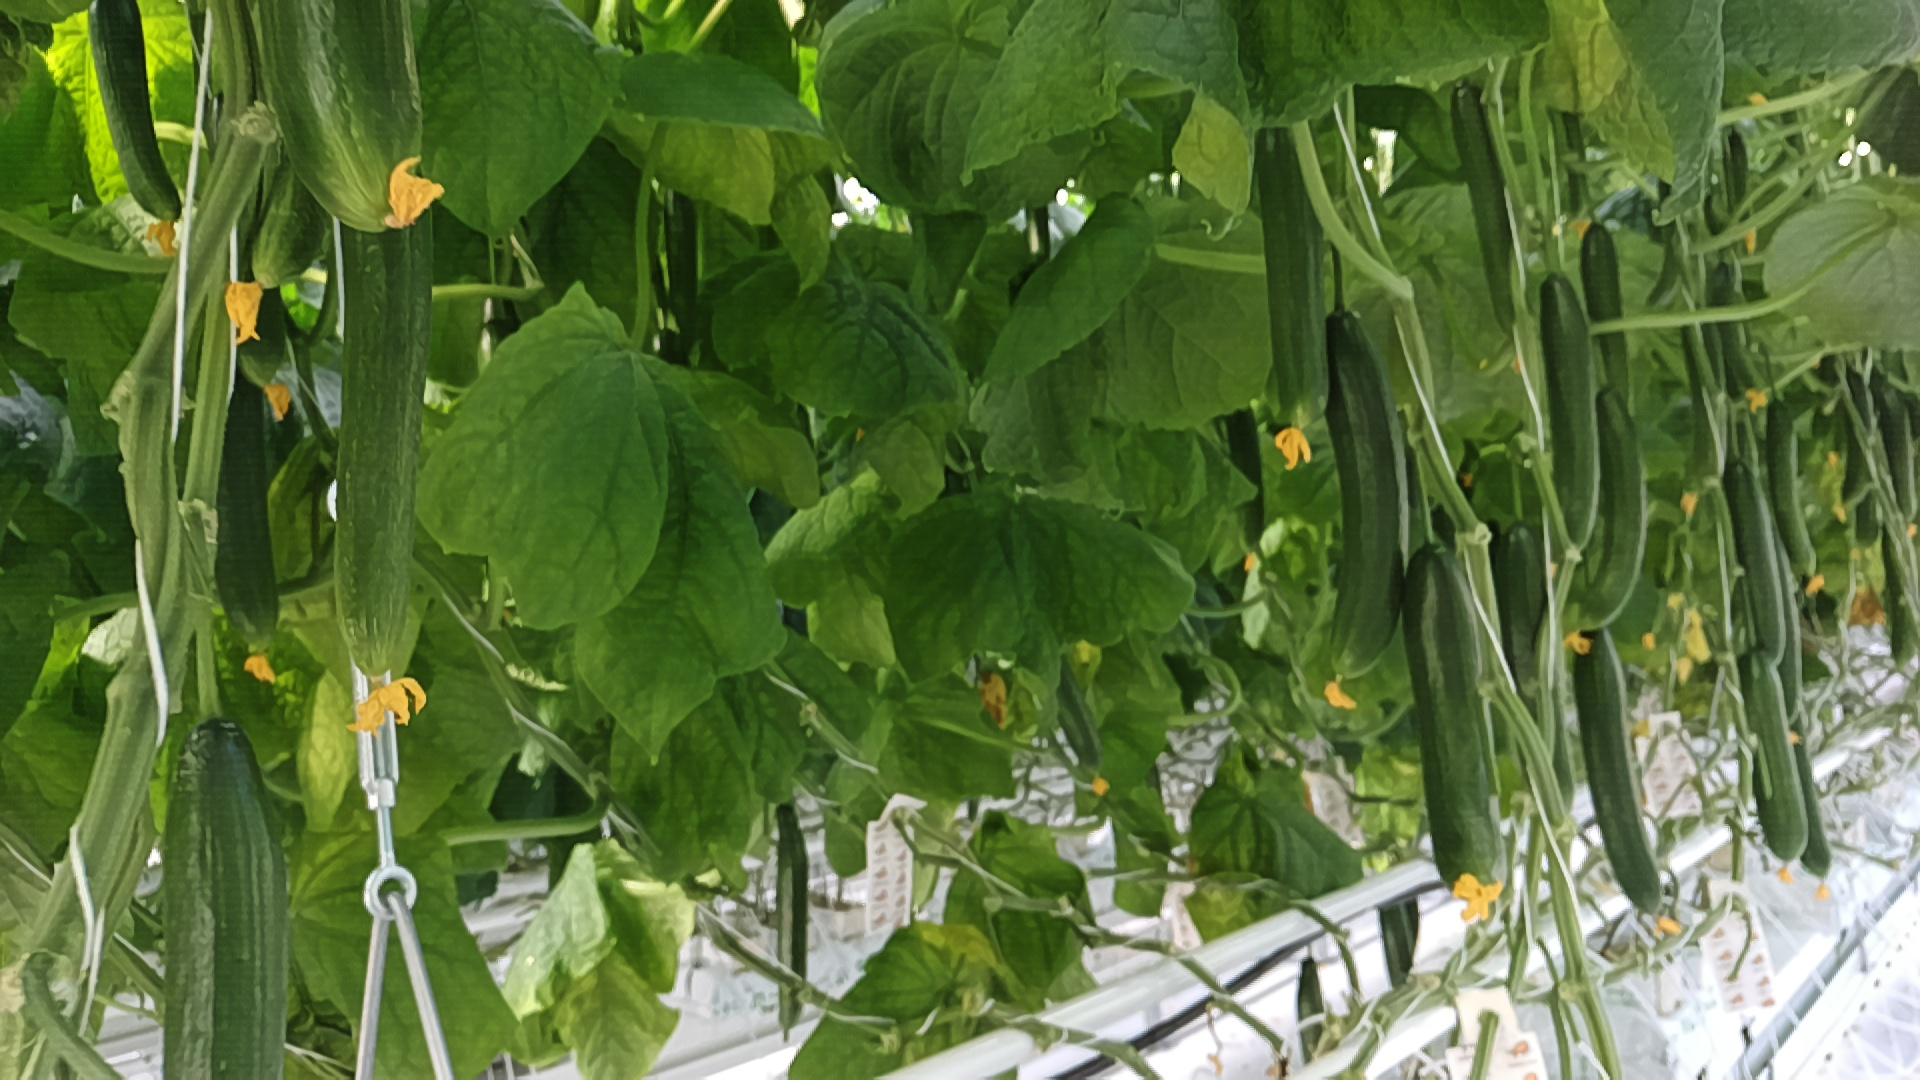gurka: (1395, 521, 1535, 922), (1303, 301, 1435, 696), (1564, 613, 1685, 934), (1241, 115, 1360, 430), (1553, 386, 1668, 653), (1526, 266, 1614, 567), (1439, 79, 1543, 328), (1724, 638, 1818, 872), (1724, 450, 1817, 659)
